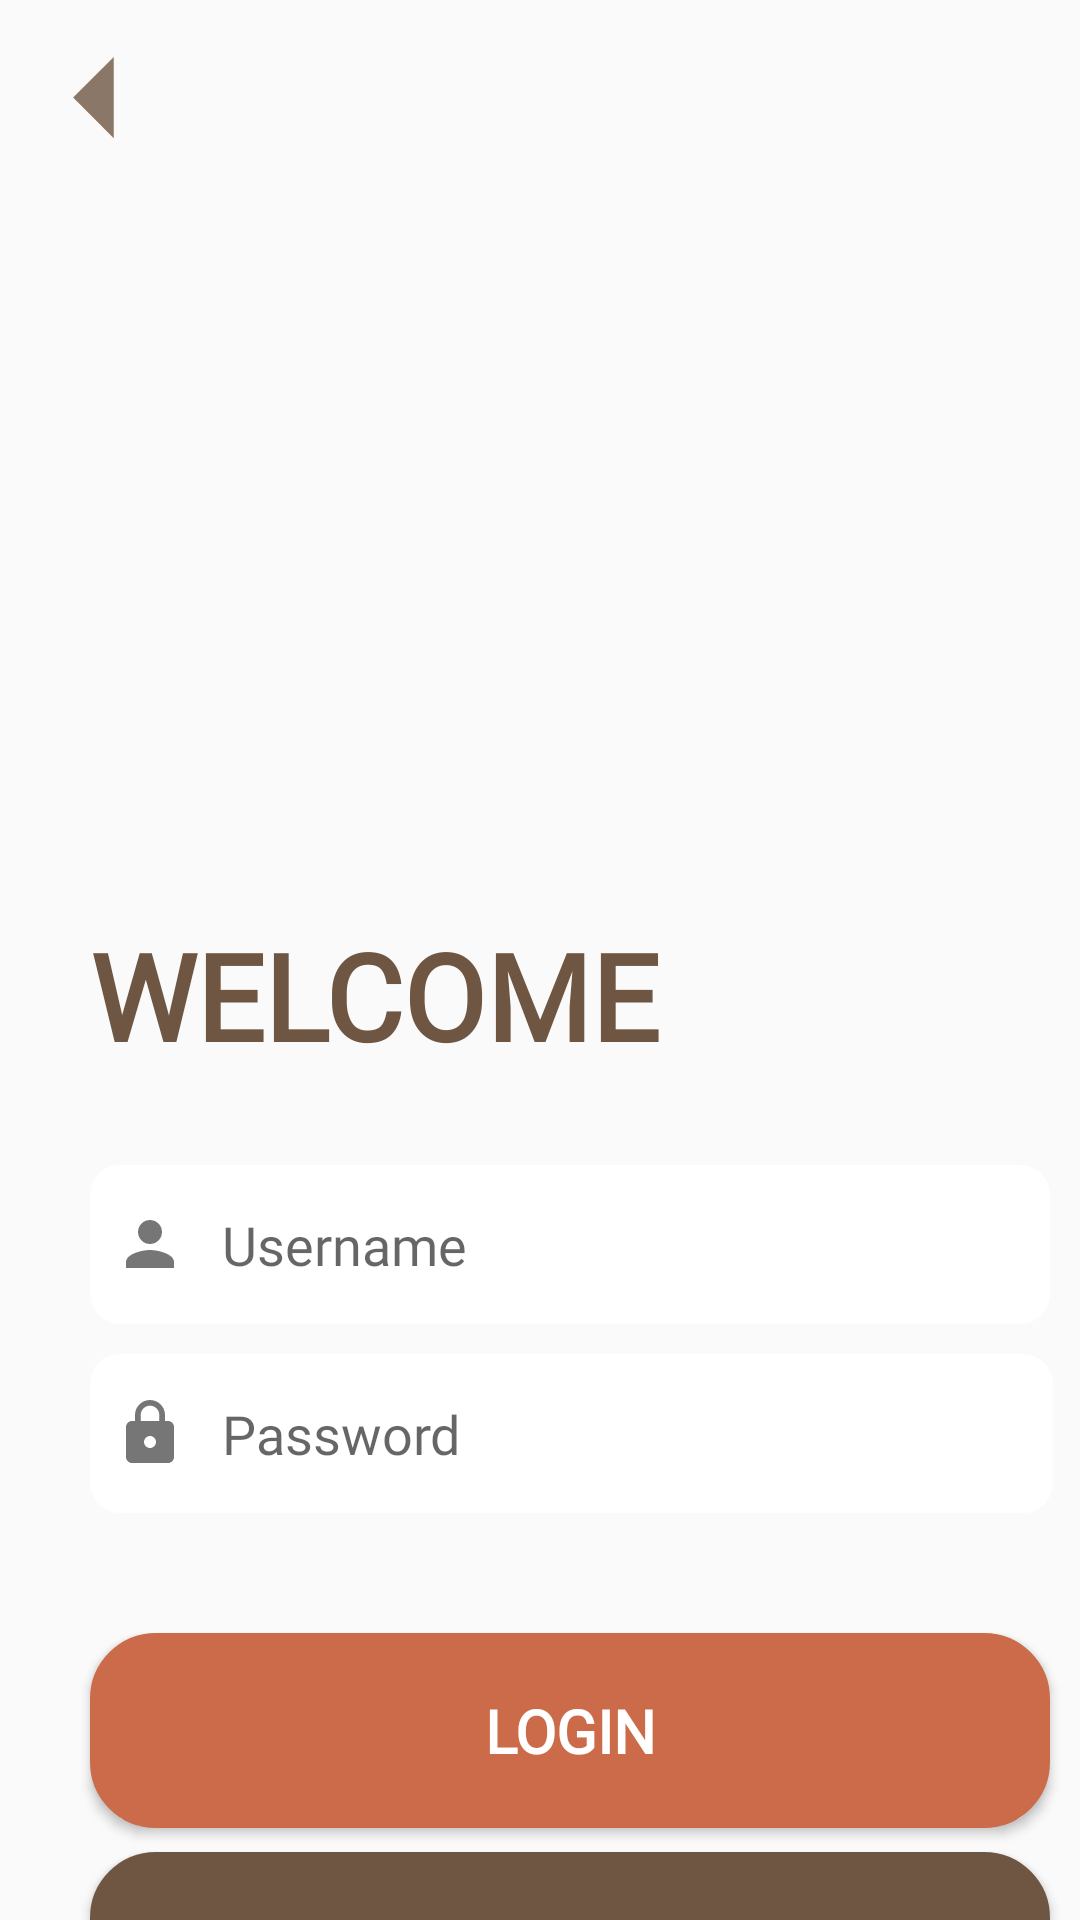

Icon bounding boxes for this 1080w x 1920h phone screenshot, format {"x1": x1, "y1": y1, "x2": x2, "y2": y2}:
back: {"x1": 73, "y1": 57, "x2": 114, "y2": 138}
